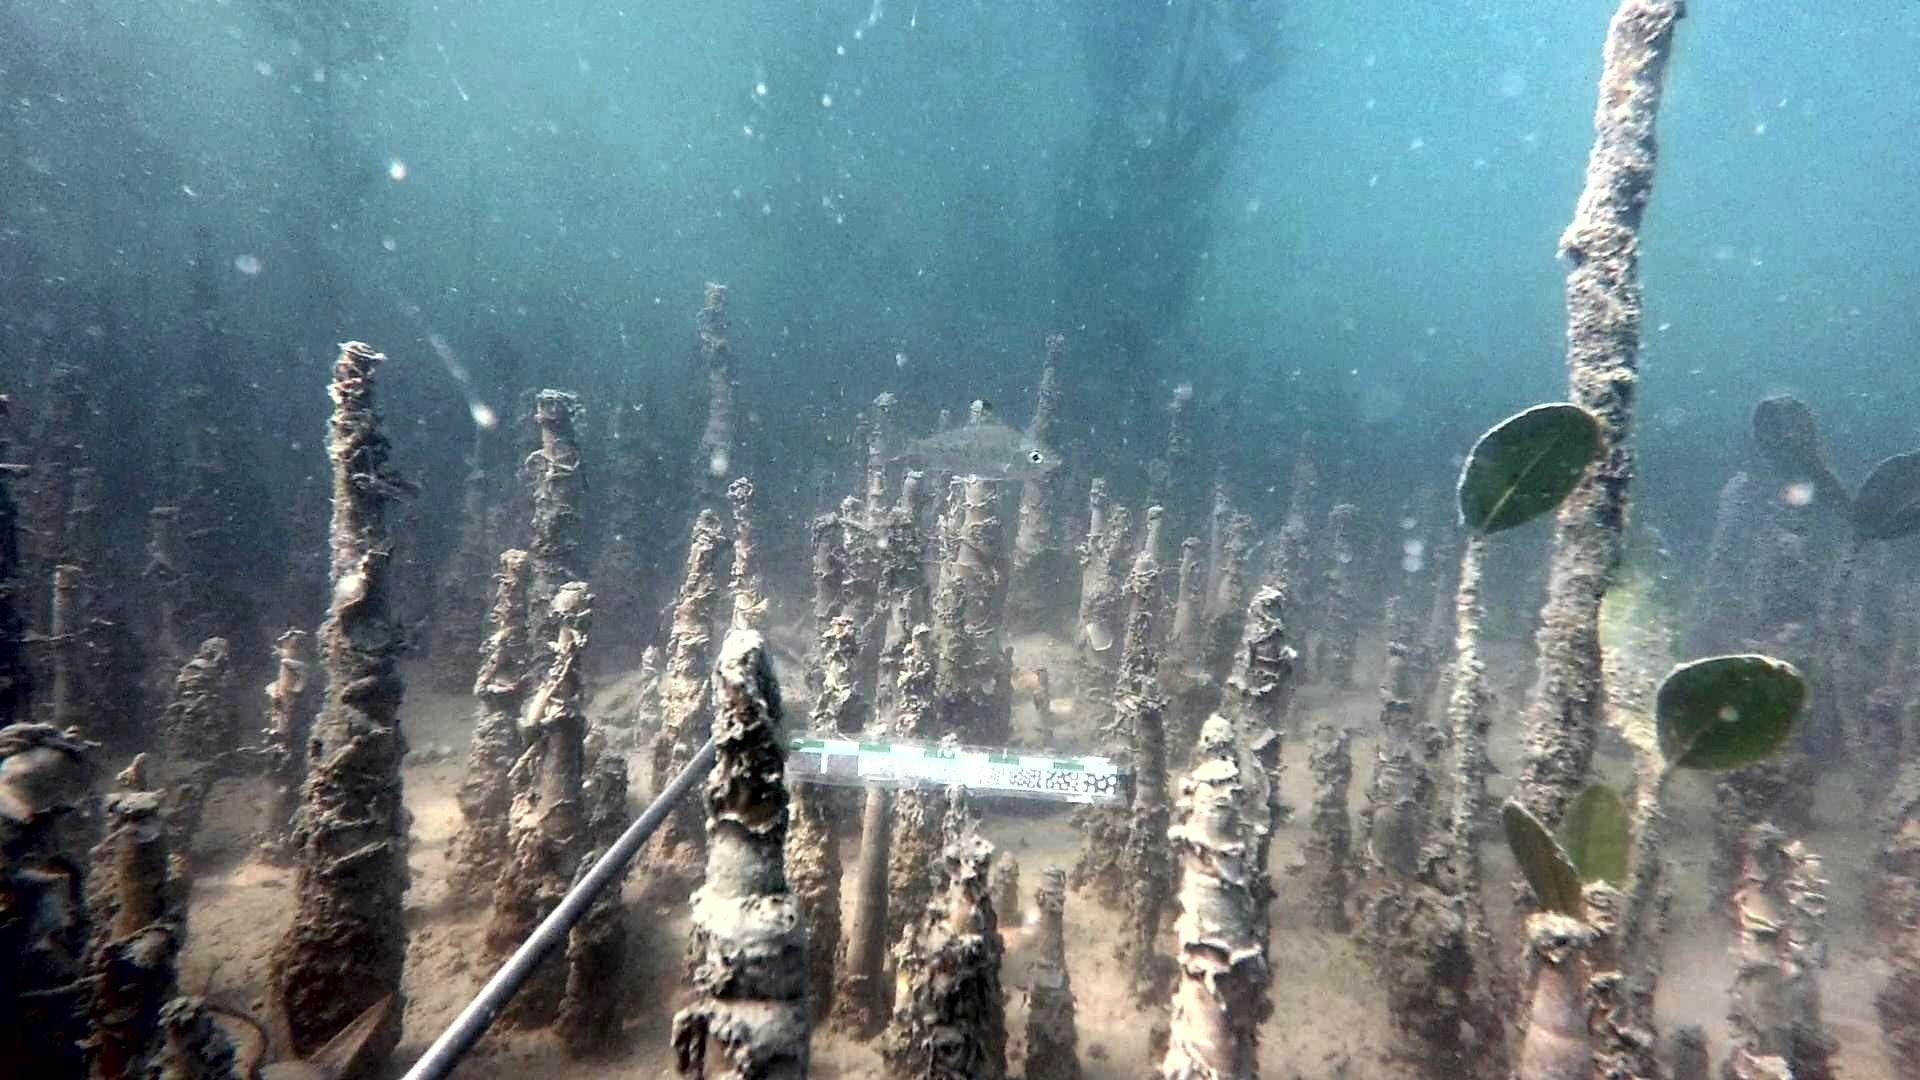gerres: (864, 399, 1064, 488)
